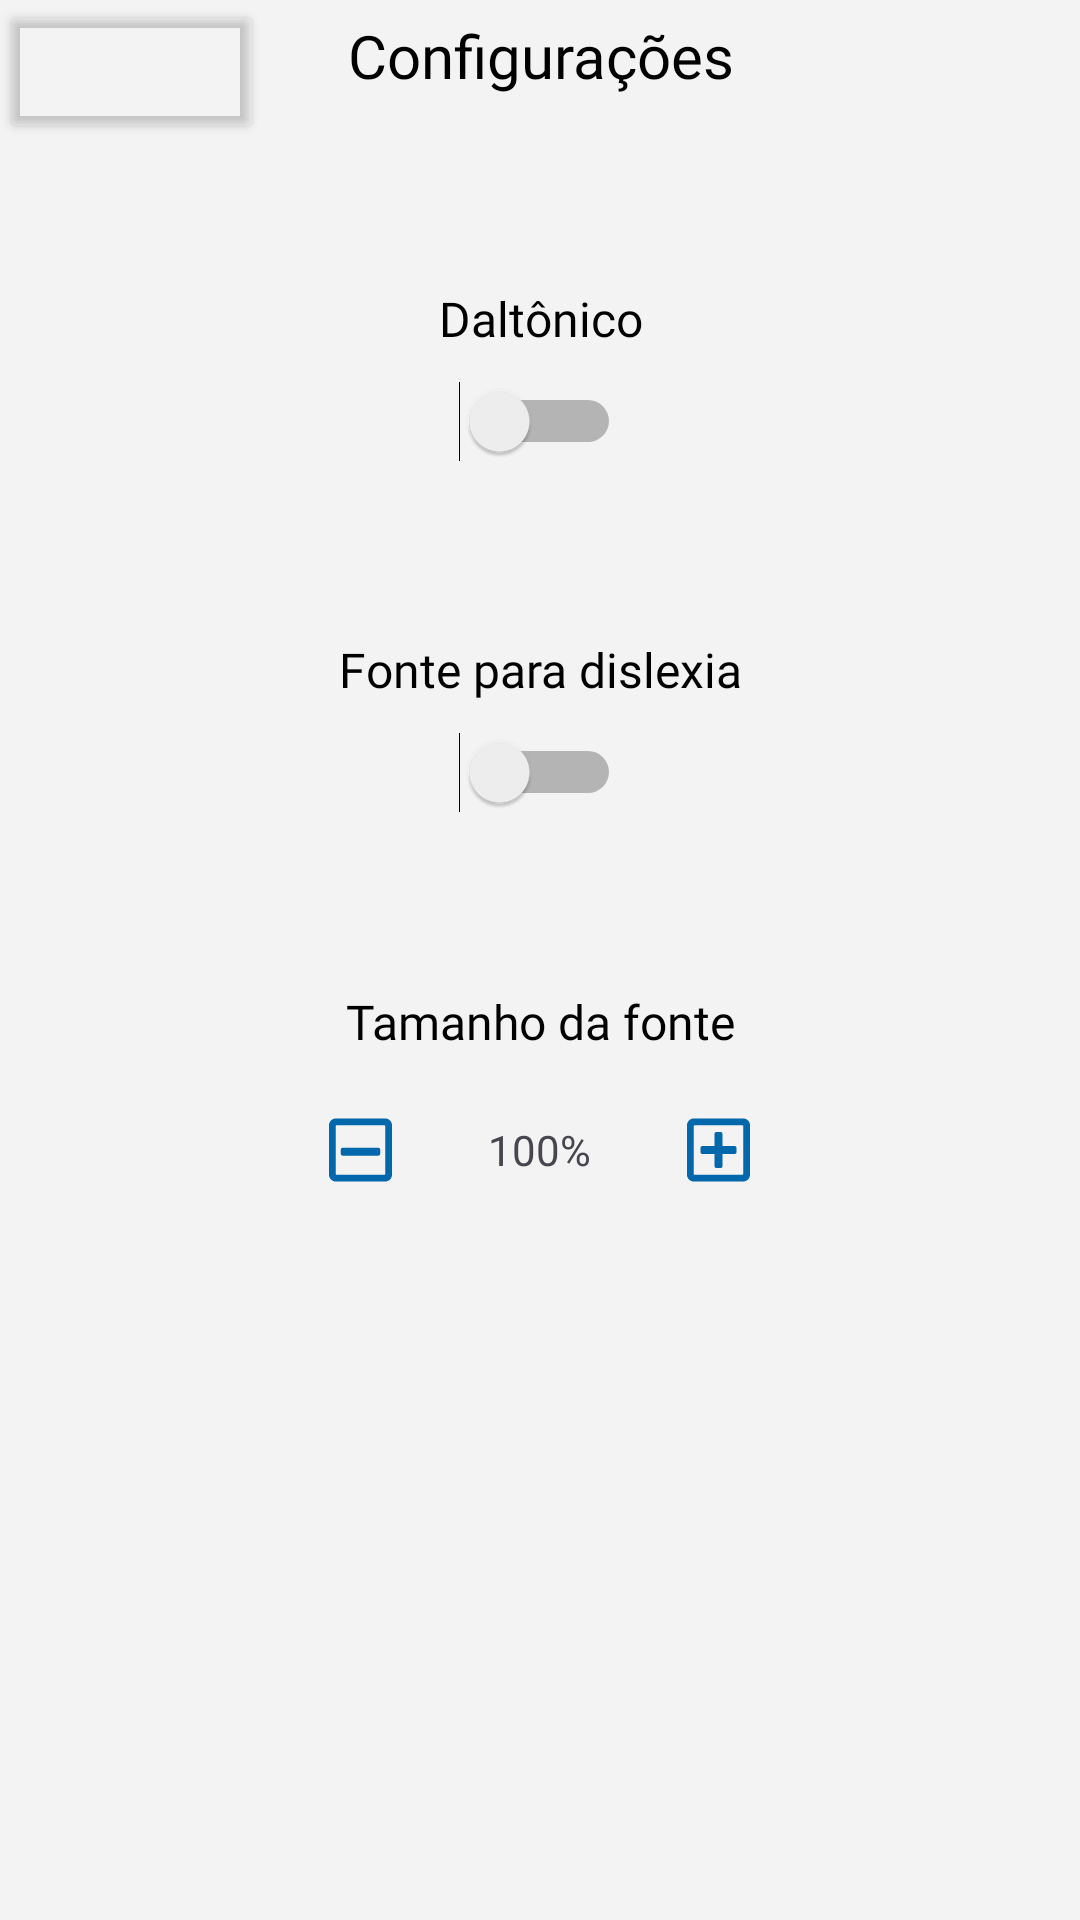

Where icons sit on this 1080px x 1920px app screen, as (x1, y1, x2, y2):
minus: (329, 1118, 392, 1182)
plus: (687, 1118, 750, 1182)
